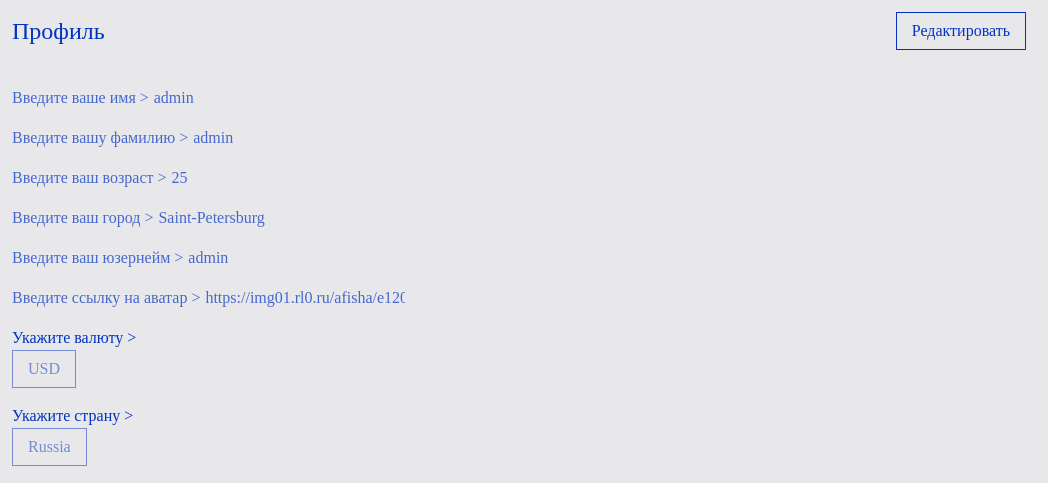
Test: features/EditableProfileCard › By canceling values are returns
This screenshot has width=1048, height=483.
Click the button with test id "EditableProfileCardHeader.EditBtn" at [961, 31], box [896,12,1026,50]
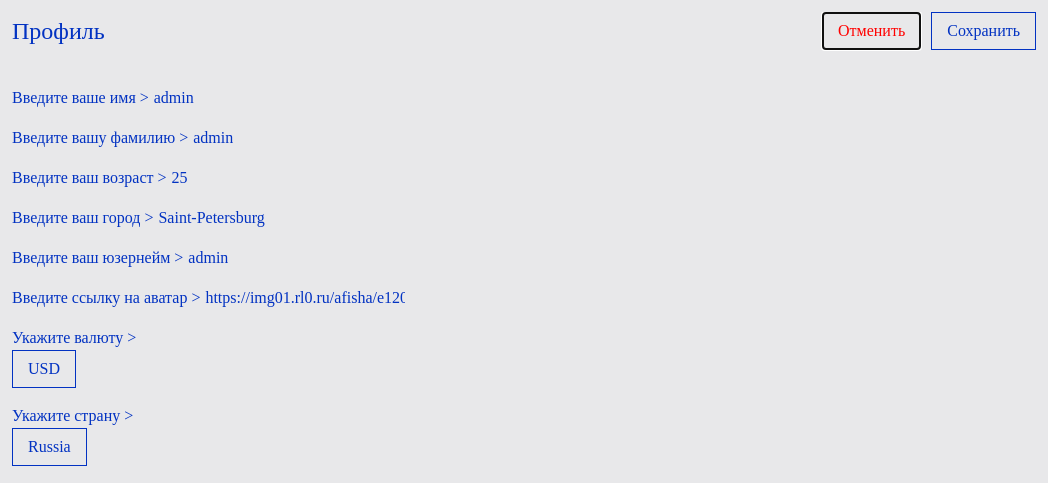
Replace the text in the field with test id "ProfileCard.firstname" with "user" at [254, 98], box [154,86,354,110]
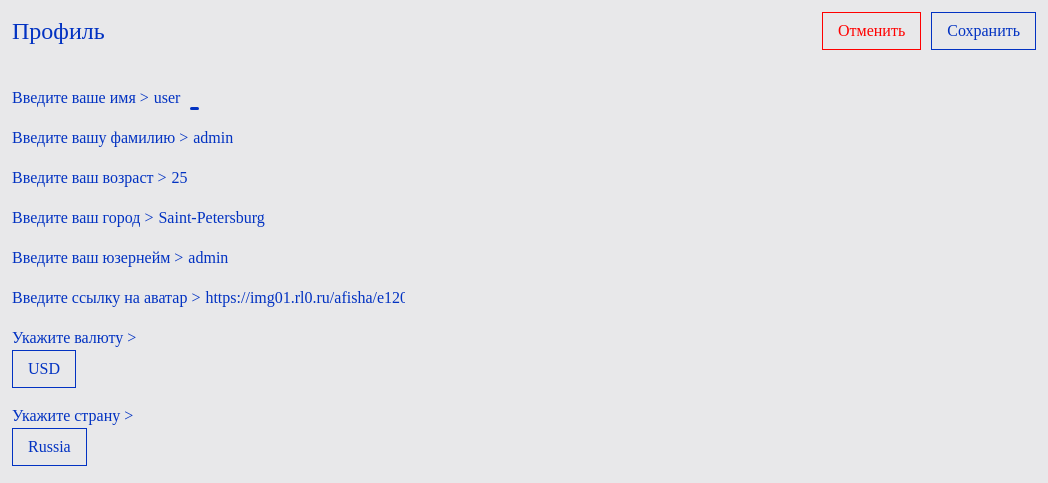
Click the button with test id "EditableProfileCardHeader.CancelBtn" at [872, 31], box [822,12,921,50]
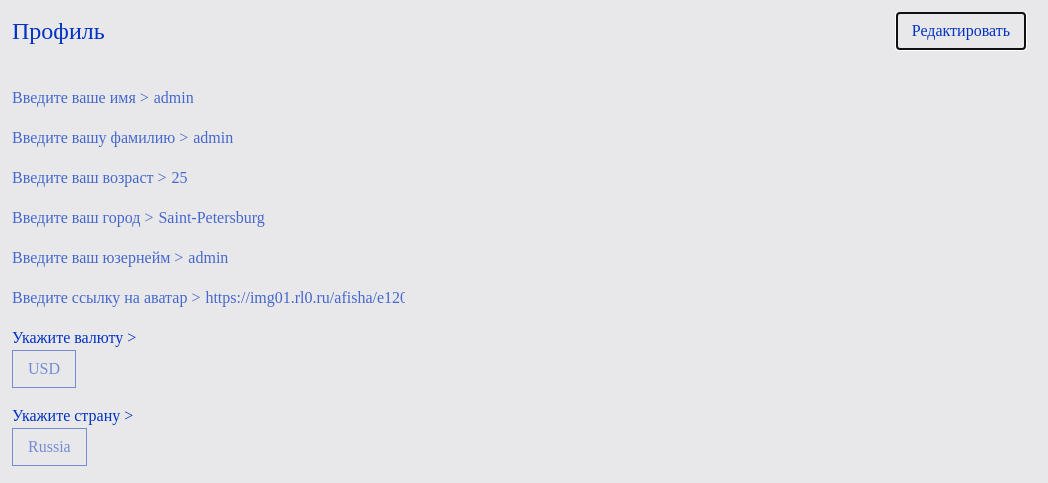
Now the field with test id "ProfileCard.firstname" holds "admin", box [154,86,354,110]
